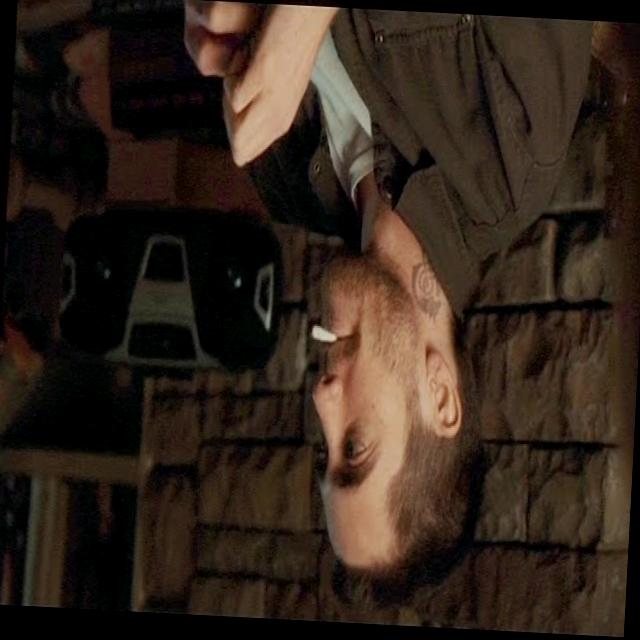cigarette: (308, 326, 342, 346)
